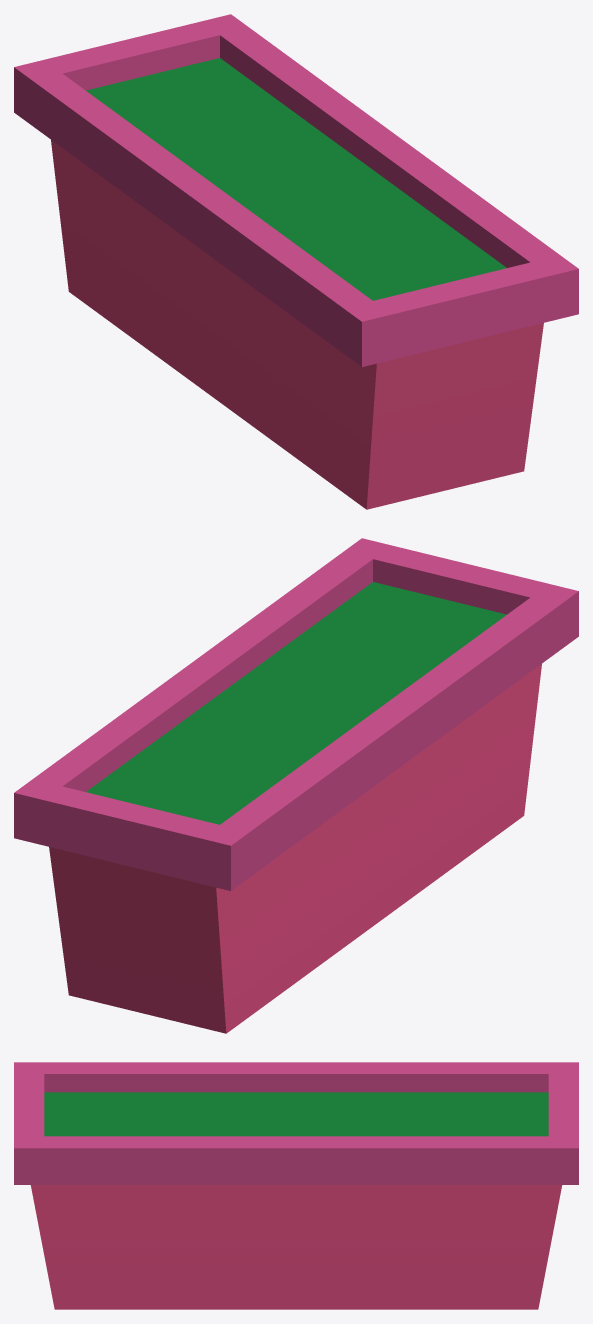
File: FlowerPot_5_2_D.fbx
3 renders of one model, top to bottom at view 1: azimuth 30°, elevation 25°; view 2: azimuth 150°, elevation 25°; view 3: azimuth 270°, elevation 25°, orthographic. The views are drawn at different scales.
Visible parts, largest first — view 1: FlowerPot_5_2_D; view 2: FlowerPot_5_2_D; view 3: FlowerPot_5_2_D.
Boxes of the visible parts, bbox=[...] form: FlowerPot_5_2_D: bbox=[14, 14, 578, 509]; FlowerPot_5_2_D: bbox=[14, 538, 578, 1033]; FlowerPot_5_2_D: bbox=[14, 1062, 578, 1309].
Bounding box in the file's own units: 32.46 × 30.52 × 90.14.
